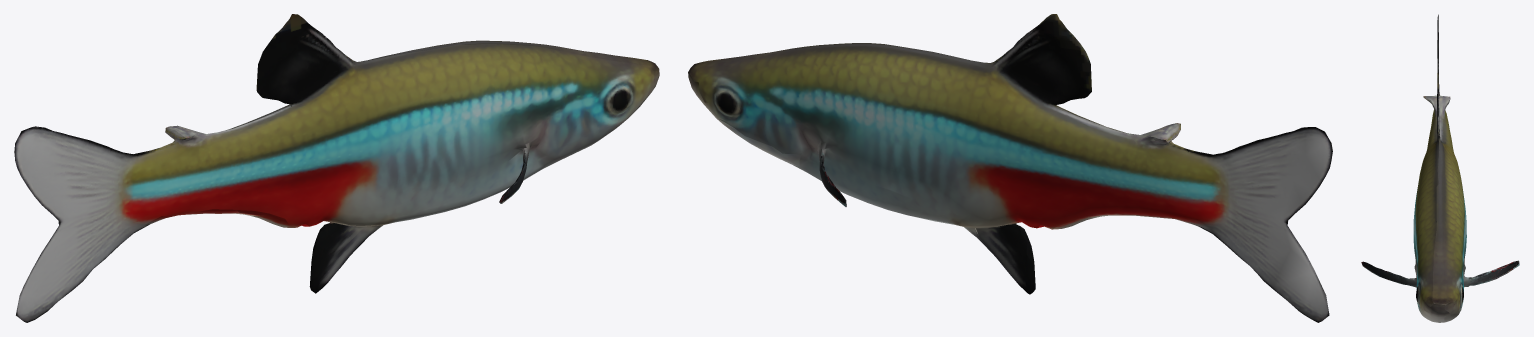
File: neon-tetra.glb
3 renders of one model, left to right at view 1: azimuth 30°, elevation 25°; view 2: azimuth 150°, elevation 25°; view 3: azimuth 270°, elevation 25°, orthographic. The views are drawn at different scales.
Visible parts, largest first — view 1: geometry_0; view 2: geometry_0; view 3: geometry_0.
Part boxes in pixels (x1,y1,x2,y2): geometry_0: (14,14,659,322); geometry_0: (688,14,1332,322); geometry_0: (1361,14,1519,322).
Size of the model in its own units: 1 by 0.4265 by 0.2944.
1 material, 1 textured.
